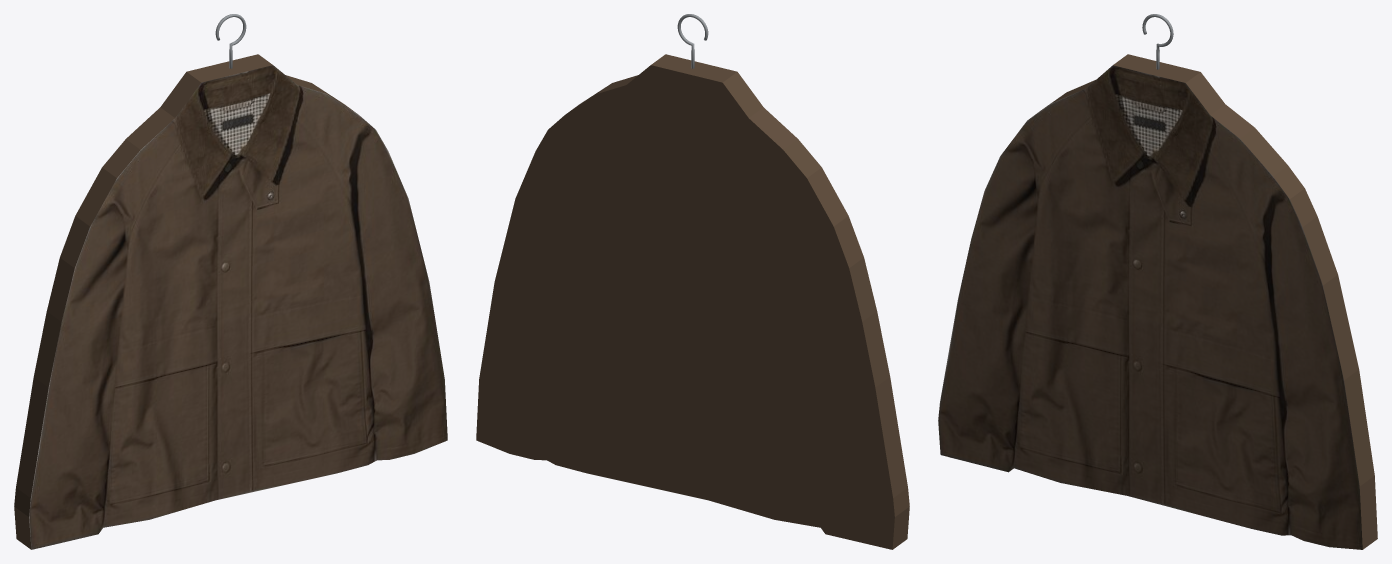
File: garment-autumn-jacket-v1.glb
3 views of the same model, side by side, from view 1: azimuth 30°, elevation 25°; view 2: azimuth 150°, elevation 25°; view 3: azimuth 330°, elevation 25° (orthographic).
Parts seen in each view (by area): view 1: body; view 2: body; view 3: body.
Part boxes in pixels (x1,y1,x2,y2): body: (14,54,447,549); body: (476,54,909,549); body: (938,54,1377,549).
Bounding box in the file's own units: 0.73 × 0.8 × 0.045.
Materials: 2 (1 with a texture image).
